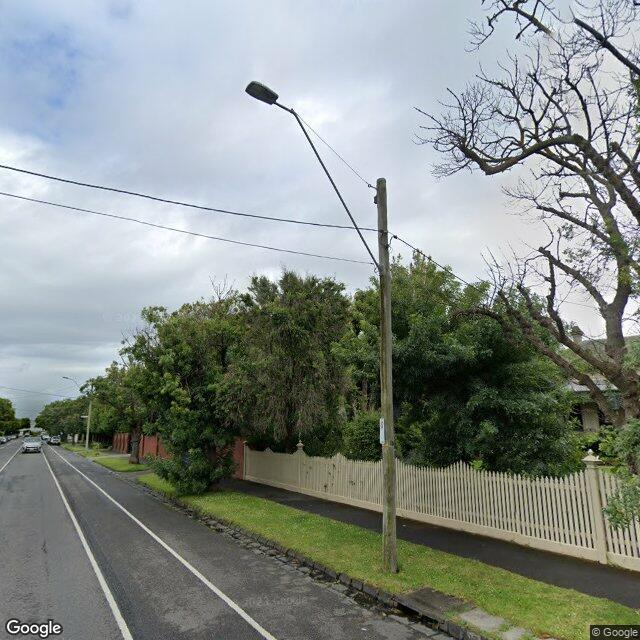streetlight: (244, 80, 382, 276), (63, 376, 87, 396)
timber-pole: (377, 178, 398, 572), (85, 386, 93, 449)
